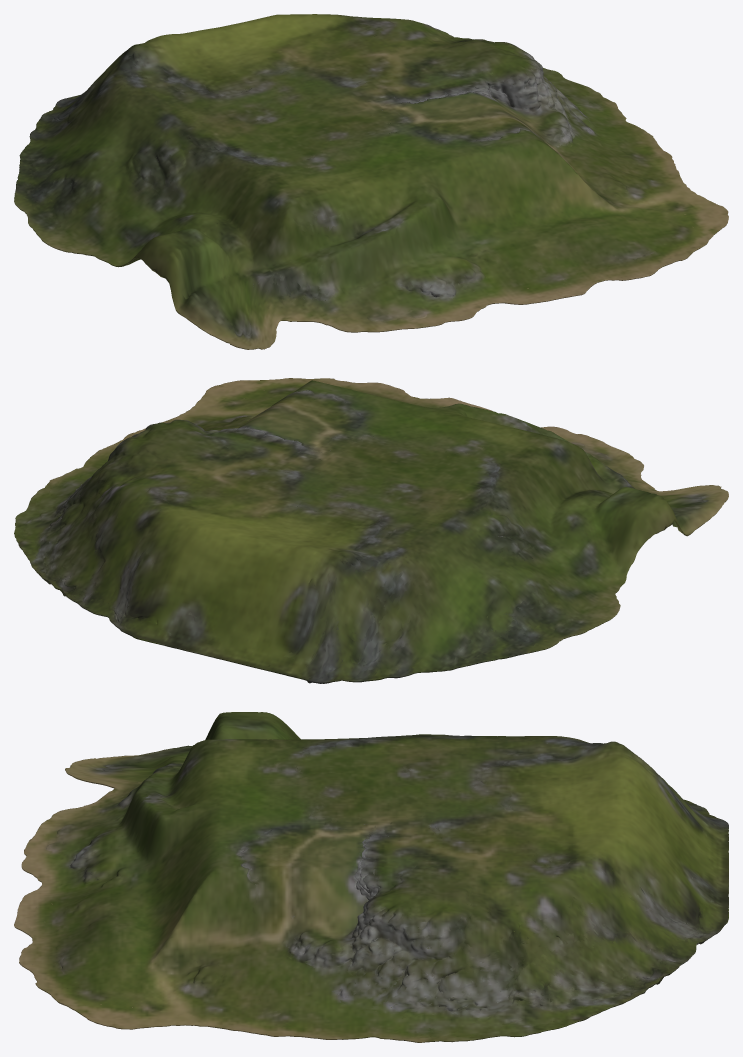
3 renders of one model, top to bottom at view 1: azimuth 30°, elevation 25°; view 2: azimuth 150°, elevation 25°; view 3: azimuth 270°, elevation 25°, orthographic. The views are drawn at different scales.
Visible parts, largest first — view 1: Mesh_0; view 2: Mesh_0; view 3: Mesh_0.
Part boxes in pixels (box(x1,y1,x2,y2)): Mesh_0: box(14, 14, 728, 349); Mesh_0: box(14, 378, 728, 683); Mesh_0: box(14, 712, 728, 1042).
Size of the model in its own units: 280 by 43.85 by 280.
1 material, 1 textured.
